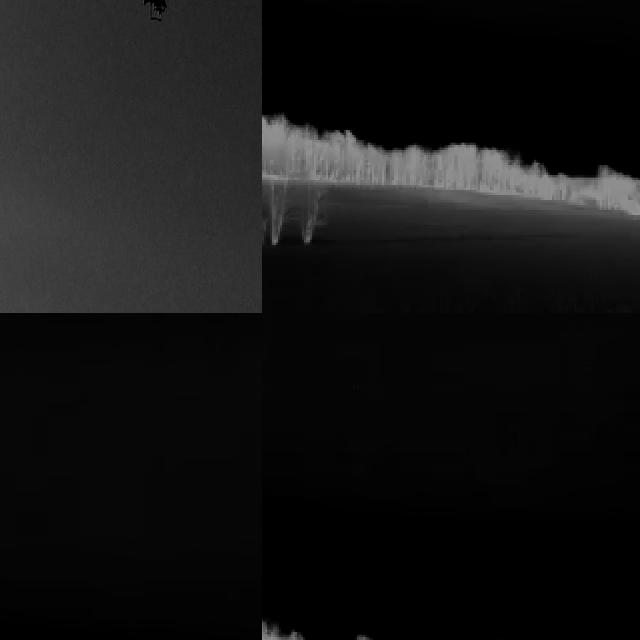0: (271, 58, 299, 82)
1: (631, 574, 640, 607)
drone: (139, 0, 175, 31)
